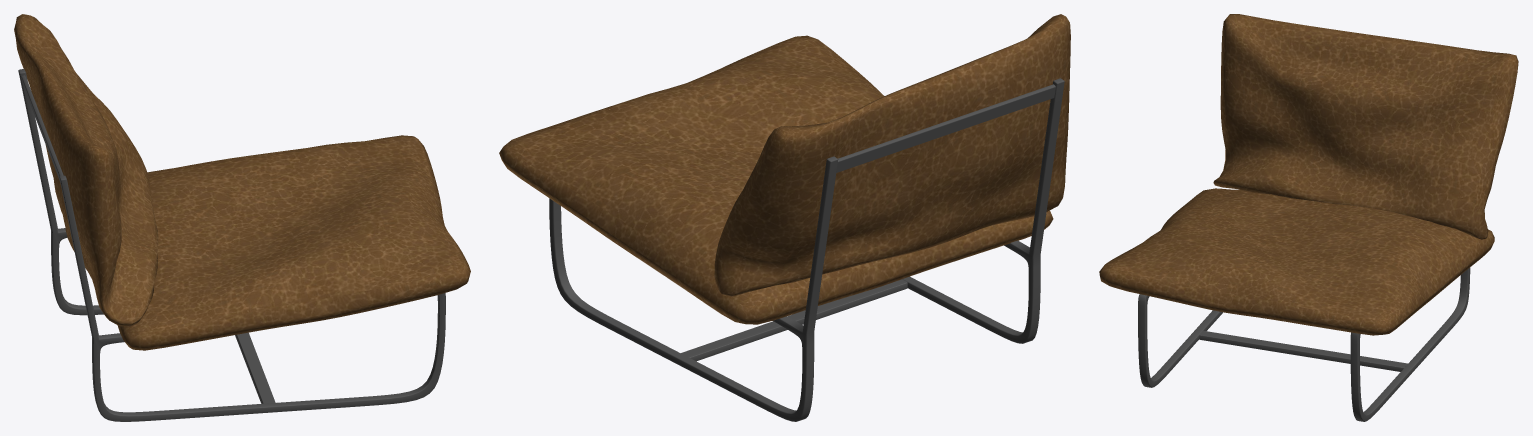
The model's file is leather_chair.glb.
3 renders of one model, left to right at view 1: azimuth 30°, elevation 25°; view 2: azimuth 150°, elevation 25°; view 3: azimuth 270°, elevation 25°, orthographic. The views are drawn at different scales.
Visible parts, largest first — view 1: Leather chair.010; view 2: Leather chair.010; view 3: Leather chair.010.
Boxes of the visible parts, x1,y1,x2,y2 form: Leather chair.010: (14,14,470,421); Leather chair.010: (499,14,1070,421); Leather chair.010: (1099,14,1518,421).
Bounding box in the file's own units: 1.62 × 1.04 × 1.55.
Materials: 2 (1 with a texture image).
